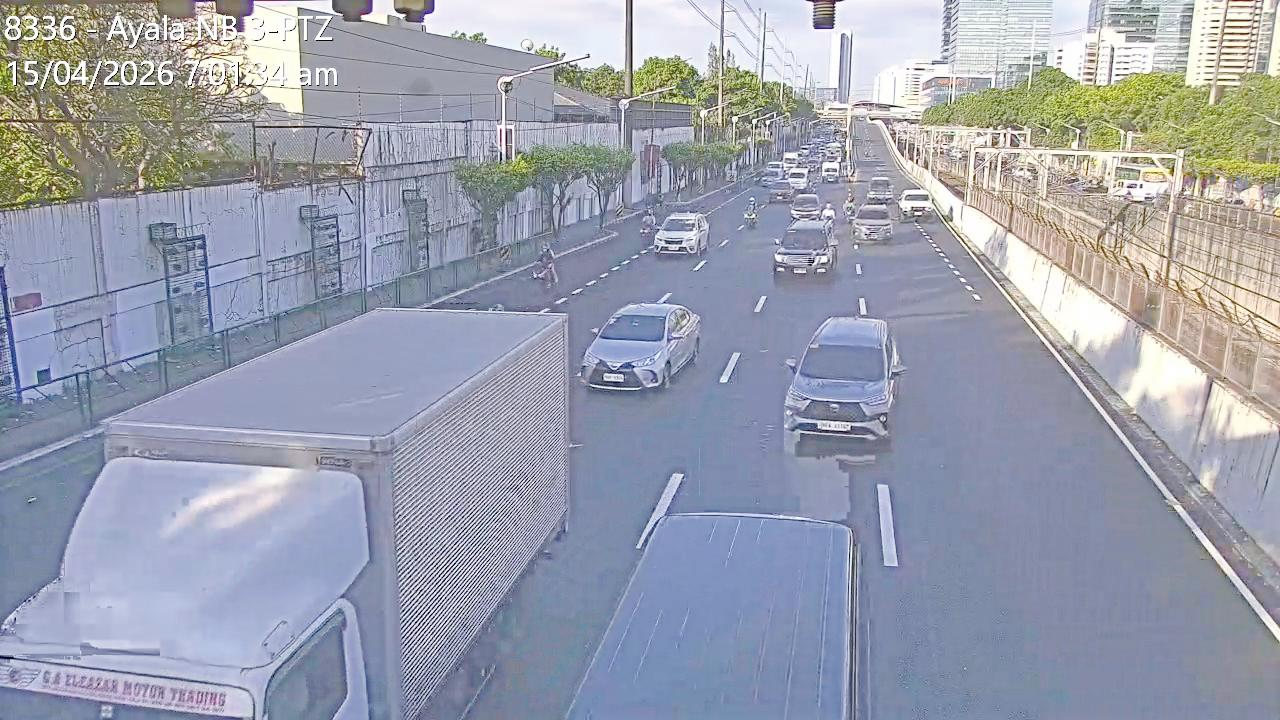Car: (572, 512, 878, 720), (781, 313, 903, 445), (578, 301, 696, 395), (770, 219, 838, 279), (652, 211, 712, 258), (848, 202, 894, 243), (896, 188, 933, 221), (787, 193, 823, 221), (866, 175, 894, 204), (768, 176, 797, 203), (784, 166, 810, 192)
Motor: (530, 248, 557, 292), (638, 212, 656, 248), (744, 197, 762, 228), (844, 197, 855, 219)
Not Accident: (778, 194, 836, 278), (643, 206, 706, 257), (844, 193, 892, 245)
